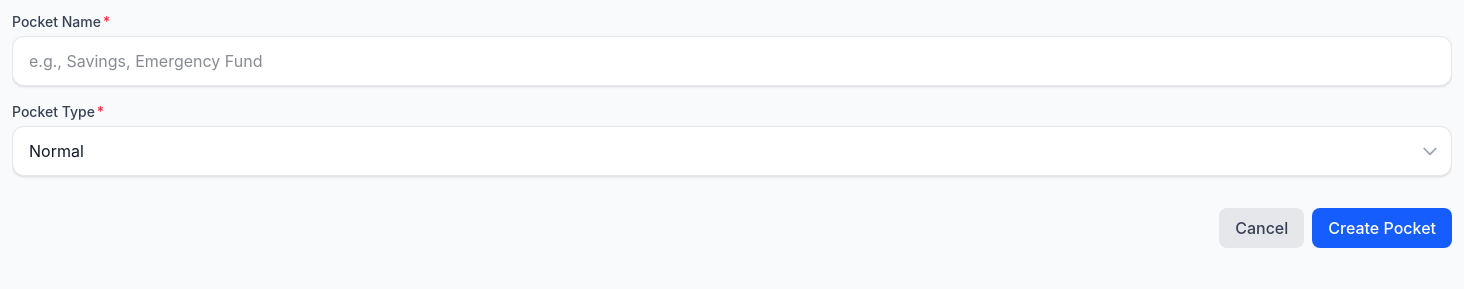
Scenario: PocketForm › shows a validation error on blur when name is empty
Click the field labelled "Pocket Name*": (732, 61) [12,36,1452,86]
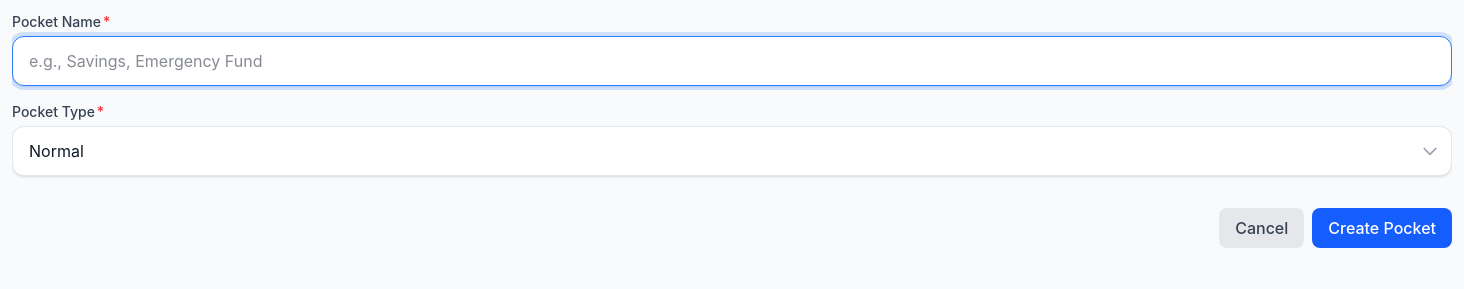
Press Tab
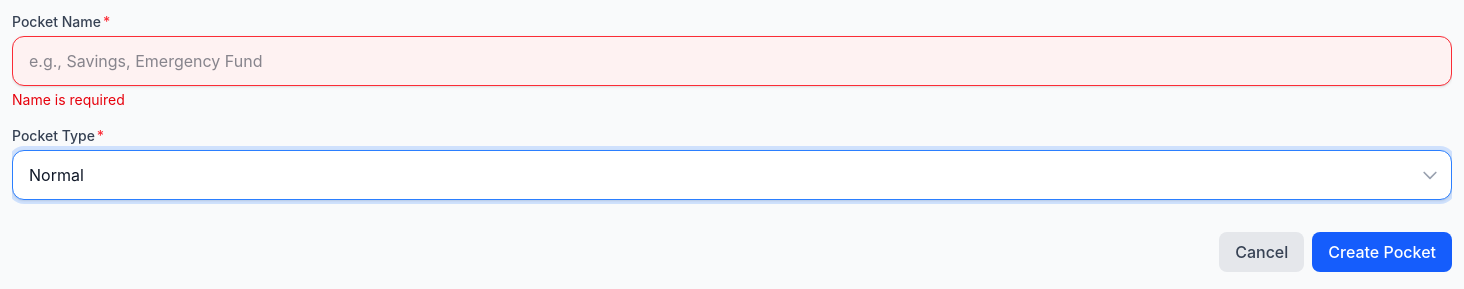
Now the text "Name is required" is shown, box [12,91,125,108]
